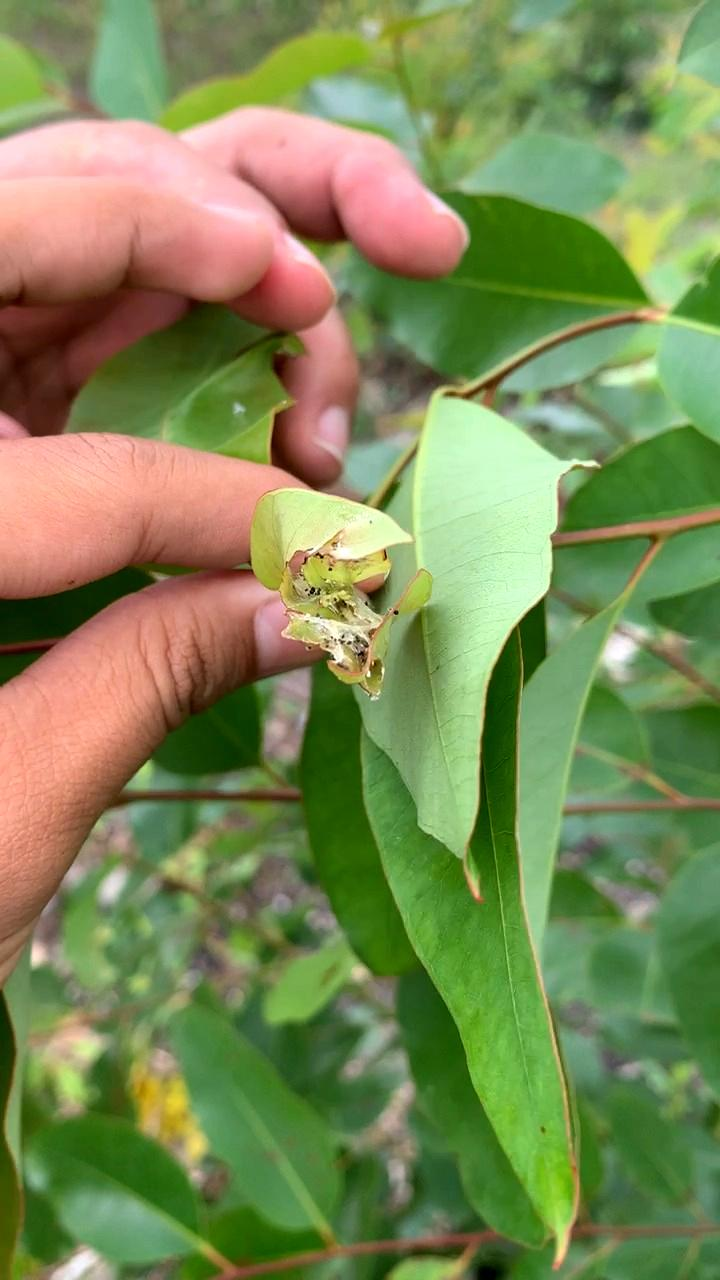Leaf Roller - Leaf: (243, 488, 423, 707)
